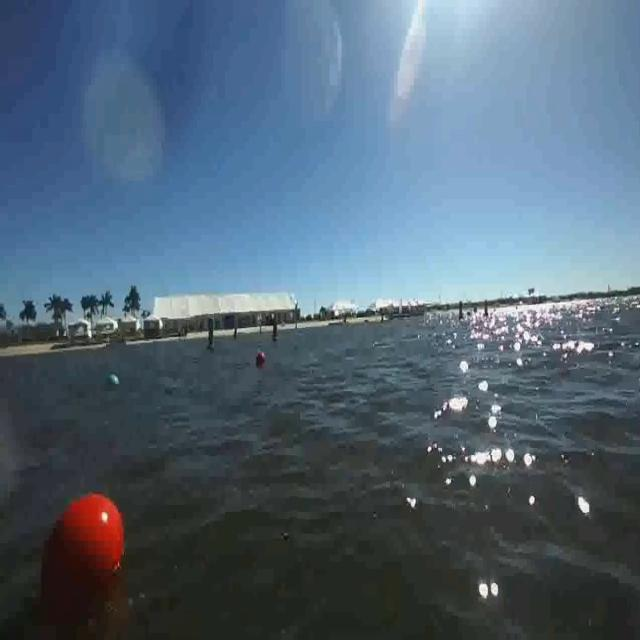green-buoy: (106, 370, 120, 393)
green-column-buoy: (205, 320, 218, 355)
red-buoy: (34, 484, 134, 610), (256, 352, 265, 364)
